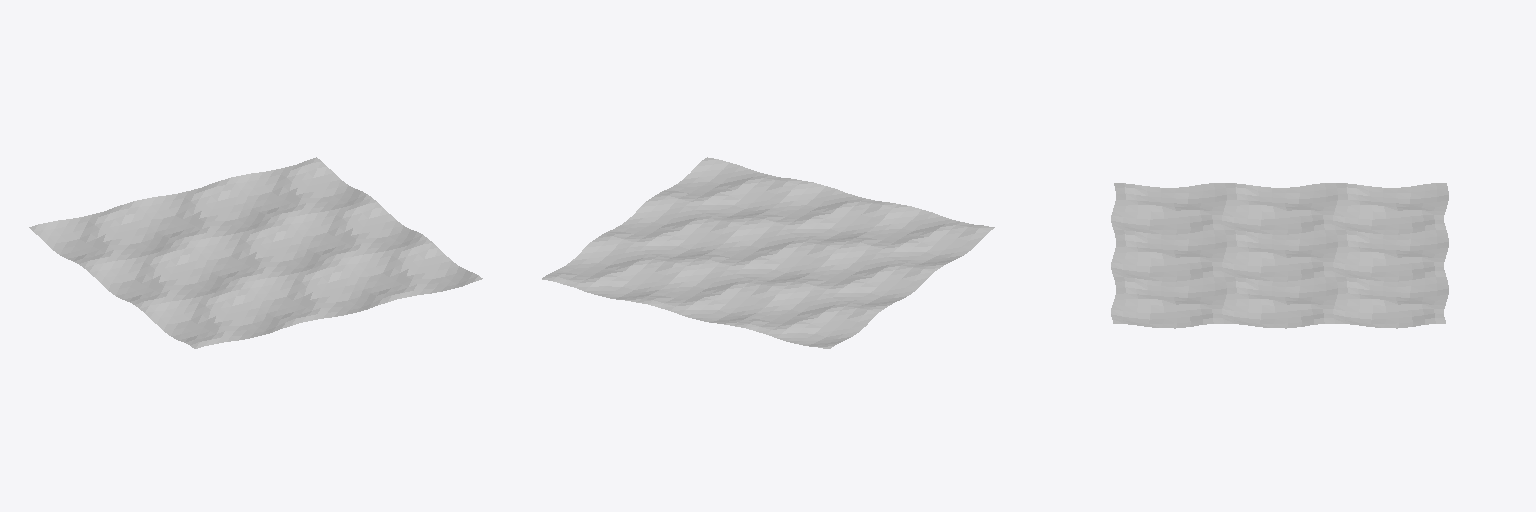
Rendered from ocean_000259.obj.
3 renders of one model, left to right at view 1: azimuth 30°, elevation 25°; view 2: azimuth 150°, elevation 25°; view 3: azimuth 270°, elevation 25°, orthographic.
Parts seen in each view (by area): view 1: Ocean_Plan.001; view 2: Ocean_Plan.001; view 3: Ocean_Plan.001.
Part boxes in pixels (bbox=[...]): Ocean_Plan.001: bbox=[29, 157, 482, 348]; Ocean_Plan.001: bbox=[542, 157, 994, 348]; Ocean_Plan.001: bbox=[1111, 183, 1448, 328].
Bounding box in the file's own units: 109226 × 2452 × 110673.